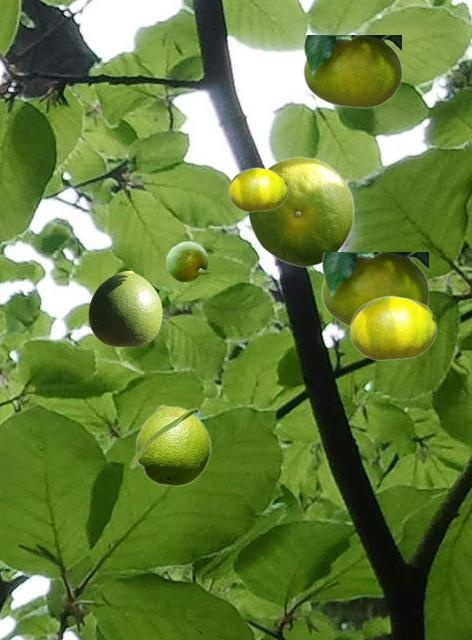dalandan: (247, 156, 353, 266), (321, 252, 427, 327), (303, 35, 400, 107), (129, 404, 211, 486), (349, 295, 436, 360), (88, 271, 161, 346), (228, 167, 287, 211), (165, 240, 210, 281)
